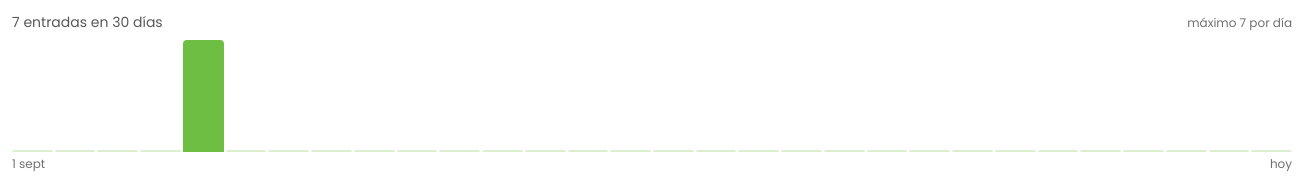
Test: RitmoDeVenta › al apuntar un día muestra su fecha y su número
Hover over the button named "5 sept: 7 entradas" at (203, 96), box x1=183 y1=40 x2=224 y2=152
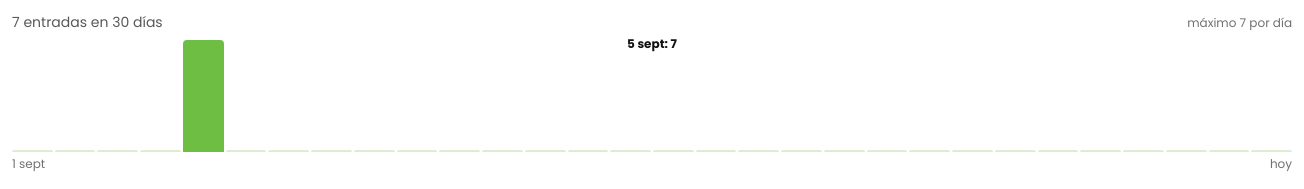
Expected: the message reads "5 sept: 7", x1=627 y1=35 x2=677 y2=52
